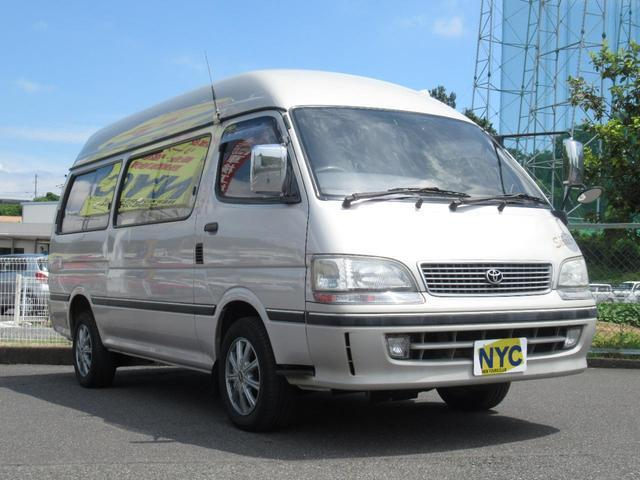Van: (48, 74, 597, 411)
